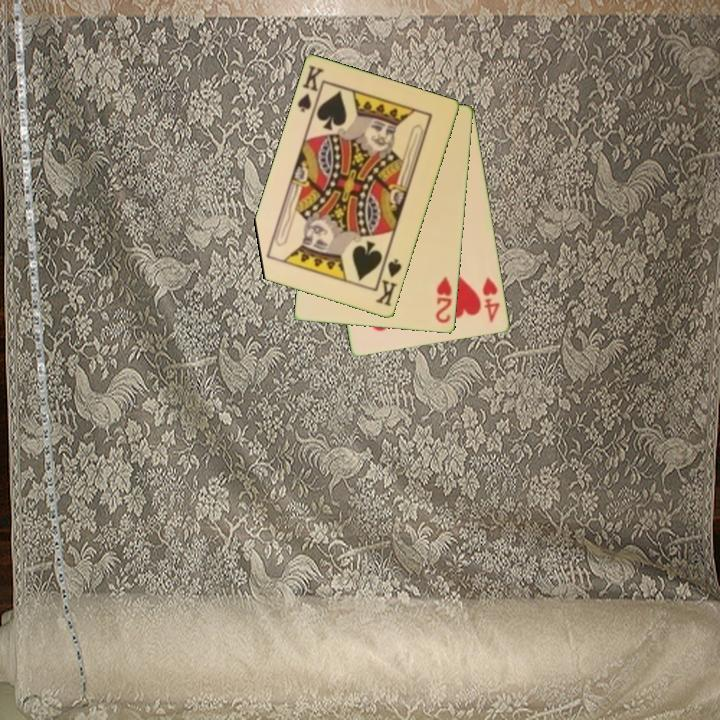2h: (433, 273, 455, 326)
4h: (479, 274, 503, 326)
Ks: (294, 62, 327, 120), (372, 253, 405, 309)
